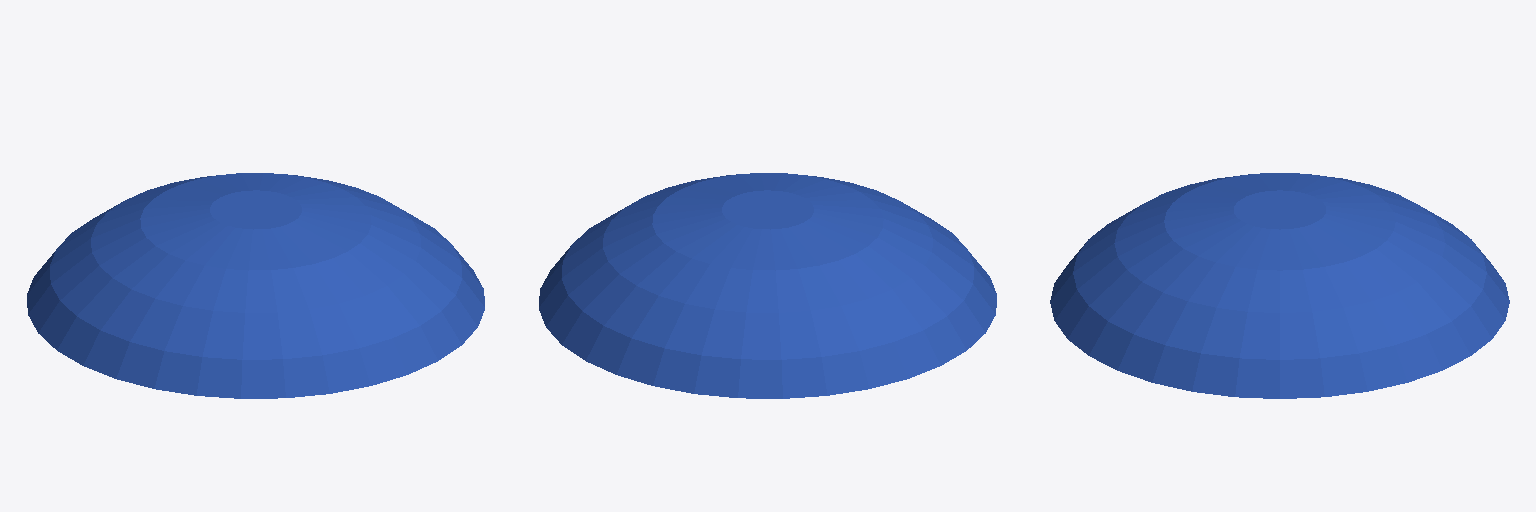
Rendered from meja4-3.obj.
3 renders of one model, left to right at view 1: azimuth 30°, elevation 25°; view 2: azimuth 150°, elevation 25°; view 3: azimuth 270°, elevation 25°, orthographic.
Parts seen in each view (by area): view 1: Cube.009_Cube.372_Cube.009_Cube.001; view 2: Cube.009_Cube.372_Cube.009_Cube.001; view 3: Cube.009_Cube.372_Cube.009_Cube.001.
Boxes of the visible parts, <box> form: Cube.009_Cube.372_Cube.009_Cube.001: <box>27,173,484,398</box>; Cube.009_Cube.372_Cube.009_Cube.001: <box>539,173,996,398</box>; Cube.009_Cube.372_Cube.009_Cube.001: <box>1050,173,1509,398</box>.
Size of the model in its own units: 0.7724 by 0.1706 by 0.7724.